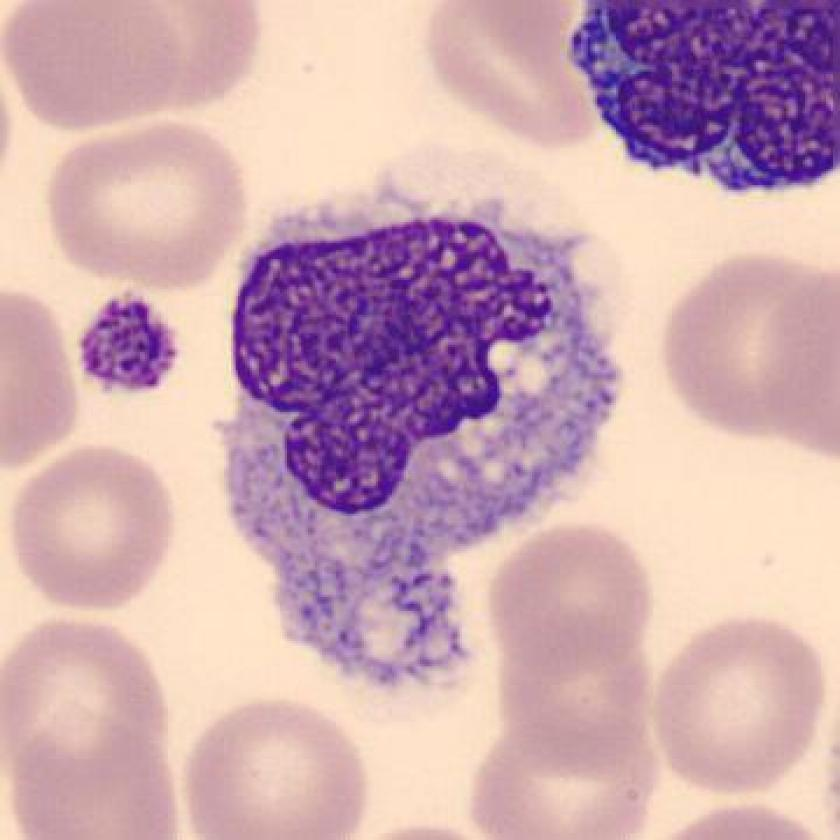monocyte: (197, 166, 657, 712)
